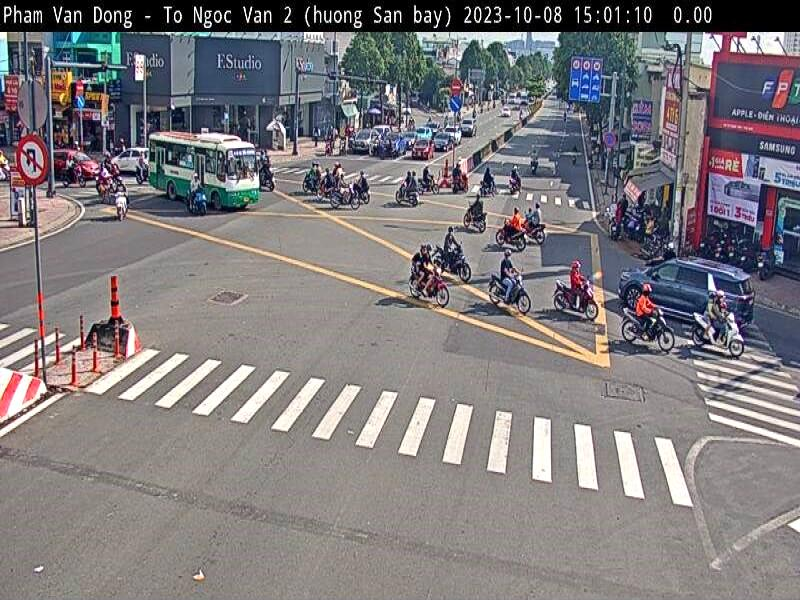bus: (146, 121, 260, 216)
car: (613, 244, 750, 324), (51, 145, 100, 191), (106, 138, 145, 180), (352, 118, 376, 158), (409, 138, 431, 166), (380, 135, 404, 159), (434, 130, 448, 154)
motorcycle: (390, 259, 453, 313), (684, 305, 742, 363), (614, 298, 669, 357), (550, 276, 599, 332), (480, 271, 536, 316)
